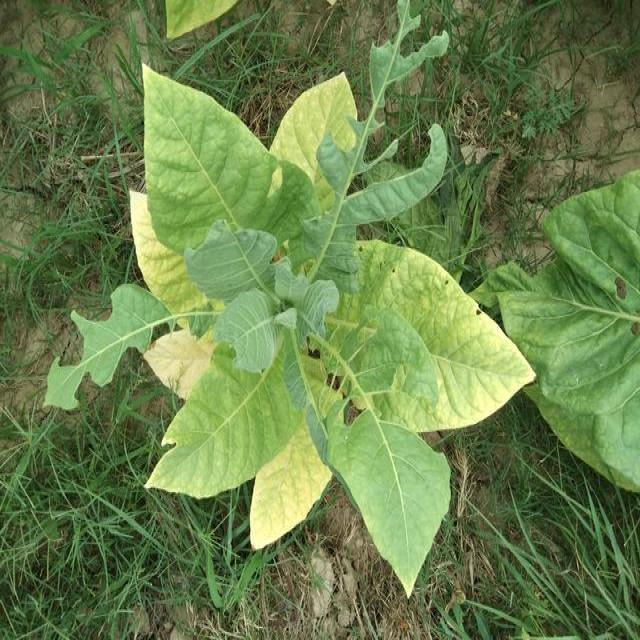crop: (38, 51, 535, 601)
